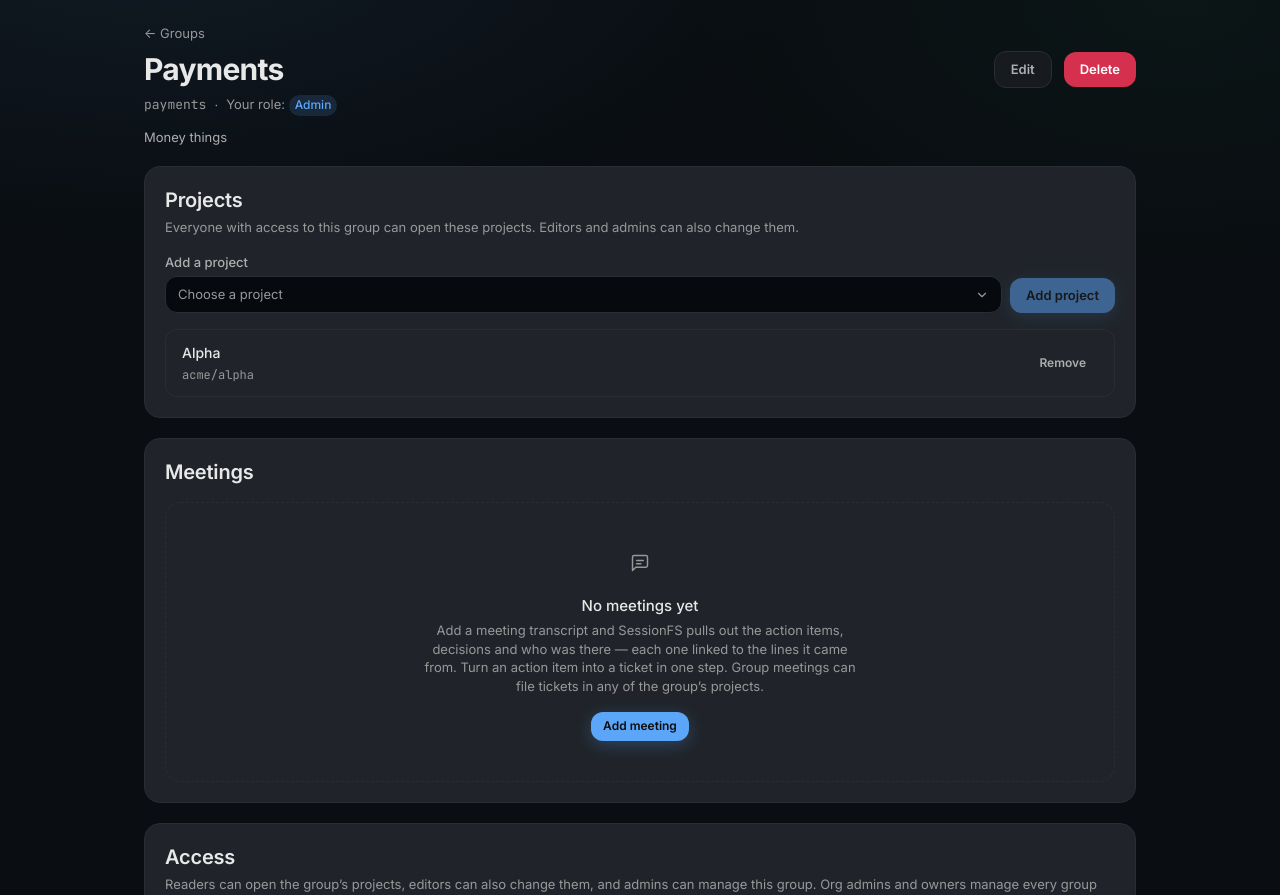
Test: GroupDetailPage — group admin › removes a project after confirming
Click the button with aria-label "Remove Alpha from the group". click: click(1063, 363)
box: [1027,349,1098,377]
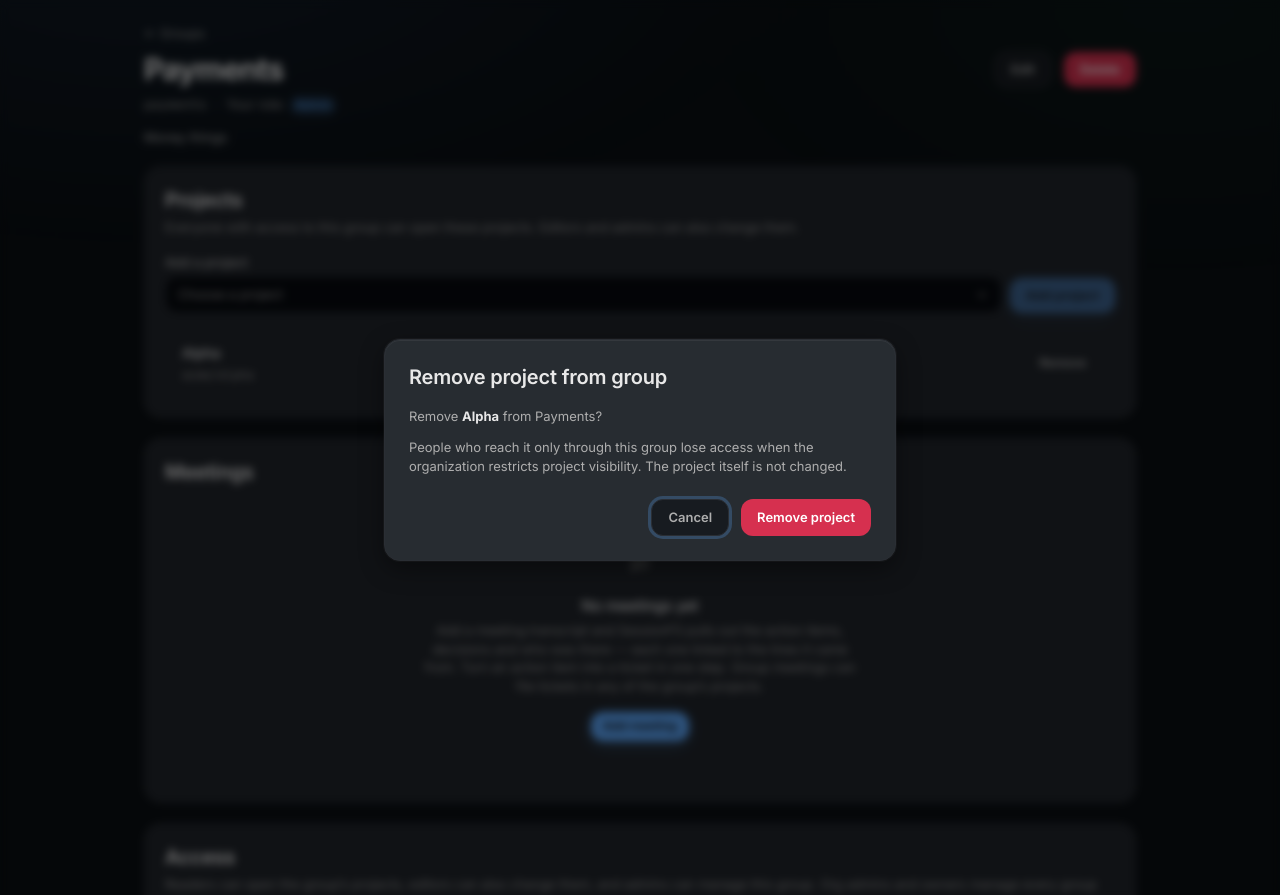
Click the button "Remove project". click: click(806, 518)
box: [741,499,871,536]
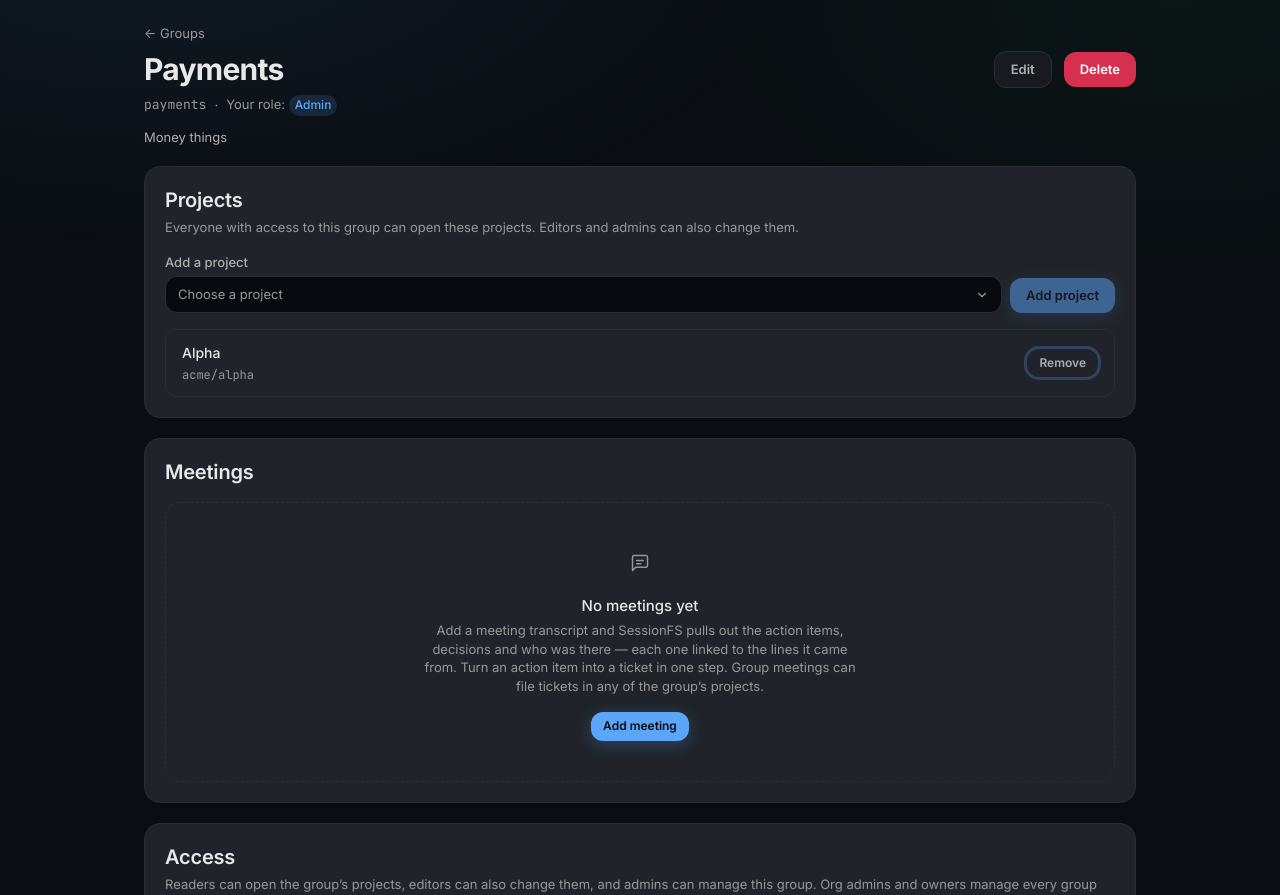
expect the dialog is gone: met
